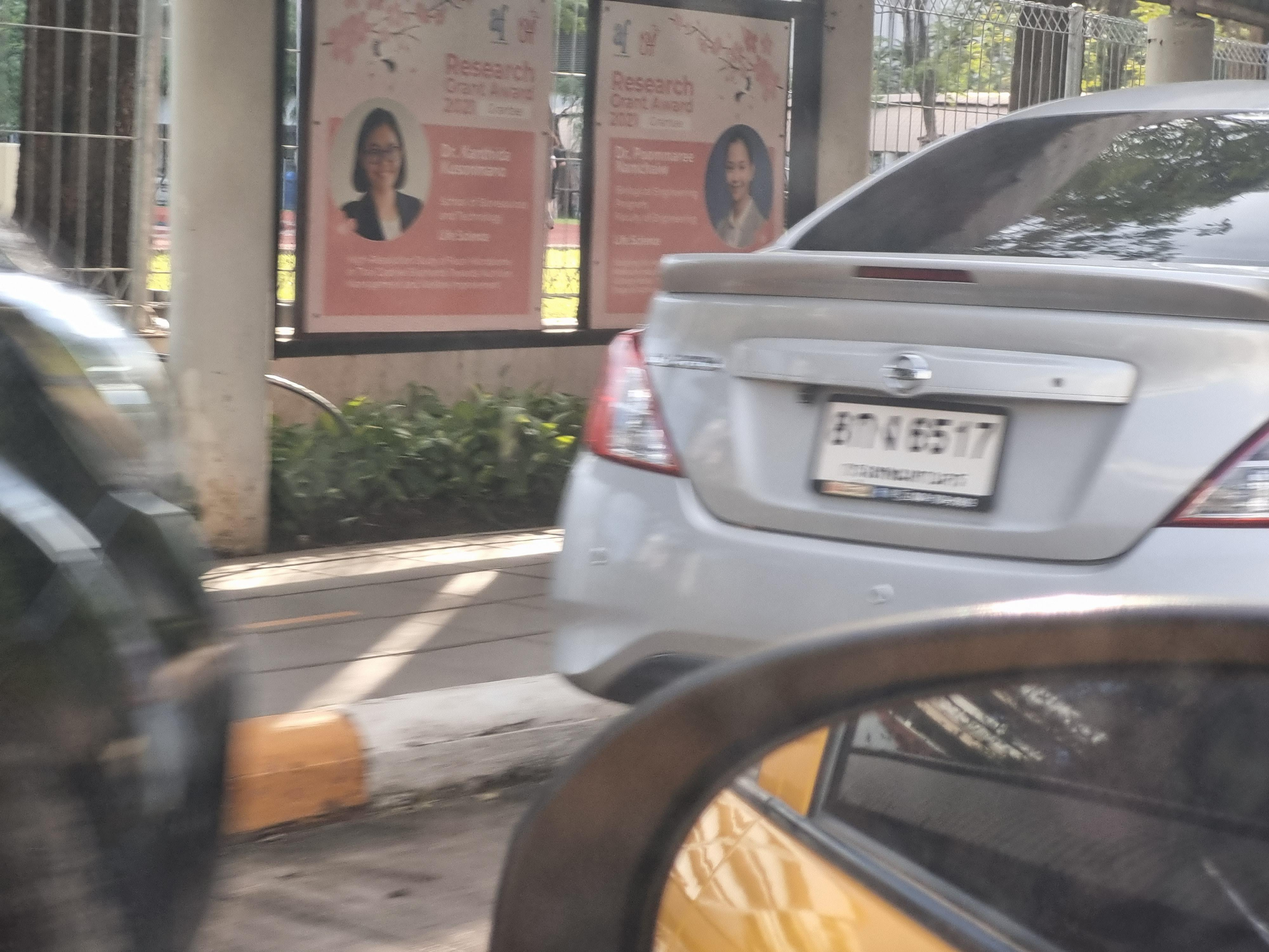license-plate: (810, 387, 1011, 512)
